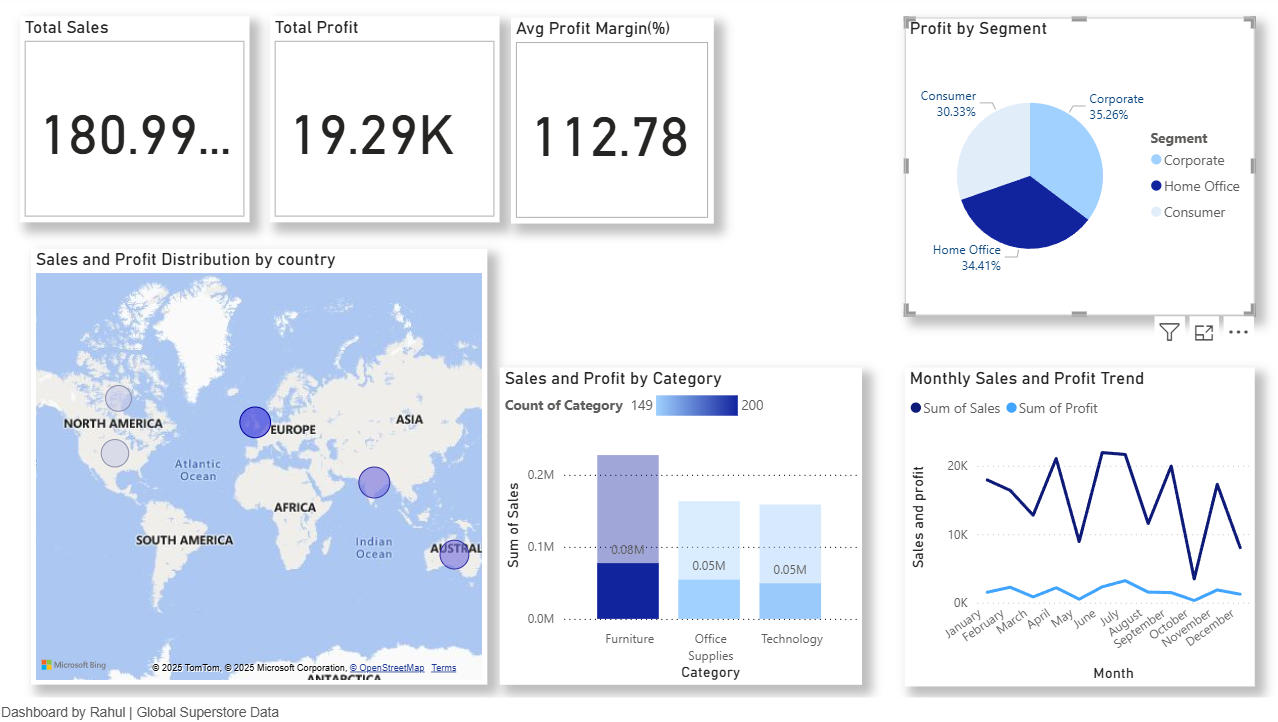

Layout of this report page (visuals, bound fields, positions):
{"tool":"powerbi","page":{"name":"Page 1","canvas":[1280,720],"ordinal":0},"visuals":[{"type":"cardVisual","title":"Total Sales","fields":{"Data":["Sum(Sheet1.Sales)"]},"box":[23.2,20.8,225,201.8],"z":0},{"type":"cardVisual","title":"Total Profit","fields":{"Data":["Sum(Sheet1.Profit)"]},"box":[267.8,20.8,225,201.8],"z":1000},{"type":"cardVisual","title":"Avg Profit Margin(%)","fields":{"Data":["Avg(Sheet1.Profit)"]},"box":[503.8,22,198.1,201.8],"z":2000},{"type":"map","title":"Sales and Profit Distribution by country","fields":{"Category":["Sheet1.Country"],"Size":["Sum(Sheet1.Sales)"]},"box":[34.2,248.2,446.3,426.8],"z":3000},{"type":"clusteredColumnChart","title":"Sales and Profit by Category","fields":{"Category":["Sheet1.Category"],"Y":["Sum(Sheet1.Sales)"]},"box":[492.8,364.4,344.8,310.6],"z":4000},{"type":"pieChart","title":"Profit by Segment","fields":{"Category":["Sheet1.Segment"],"Y":["Sum(Sheet1.Profit)"]},"box":[889,22,342.4,291],"z":5000},{"type":"lineChart","title":"Monthly Sales and Profit Trend","fields":{"Category":["Sheet1.Order Date.Variation.Date Hierarchy.Month"],"Y":["Sum(Sheet1.Sales)","Sum(Sheet1.Profit)"]},"box":[889,364.4,342.4,311.8],"z":6000},{"type":"textbox","box":[702,32,150,202],"z":7000},{"type":"textbox","box":[0,687.2,1280.3,33],"z":7001}]}

Visuals, with their boxes in screenshot pixels (x1, y1, x2, y2), scaled from the page's 1280x720 canvas onto the 1278x722 screenshot:
"Total Sales" cardVisual: BBox(23, 21, 248, 223)
"Total Profit" cardVisual: BBox(267, 21, 492, 223)
"Avg Profit Margin(%)" cardVisual: BBox(503, 22, 701, 224)
"Sales and Profit Distribution by country" map: BBox(34, 249, 480, 677)
"Sales and Profit by Category" clusteredColumnChart: BBox(492, 365, 836, 677)
"Profit by Segment" pieChart: BBox(888, 22, 1229, 314)
"Monthly Sales and Profit Trend" lineChart: BBox(888, 365, 1229, 678)
textbox: BBox(701, 32, 851, 235)
textbox: BBox(0, 689, 1277, 721)
